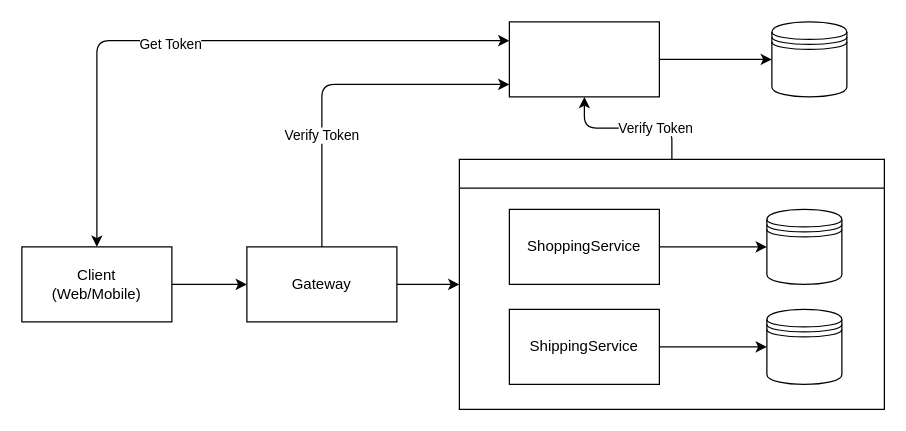
Some shapes in this 906 by 431 pixel diagram are drawn without their labels. The shapes that lost their labels are listed below. From the top down, each one's box as (x1, y1, x2, y2) in pixels, then its label:
(508, 21, 659, 97): Identity
(458, 158, 884, 409): Microservices
